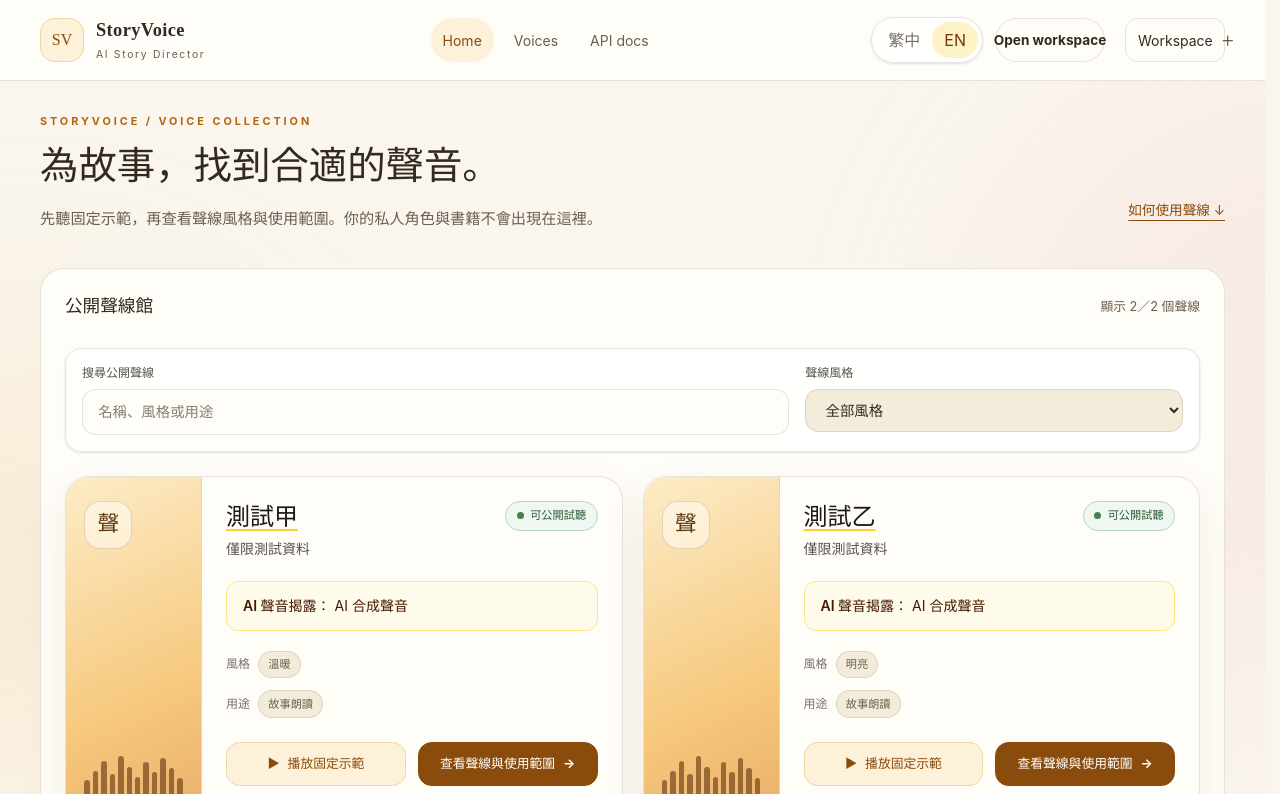
Test: 搜尋及風格篩選能清除，選擇聲線只前往詳情而不授權或合成
Check: the search field is shown, box 82,389 -> 789,435
Select "溫暖" in the dropdown labelled "聲線風格": (994, 410) 805,389 -> 1183,432
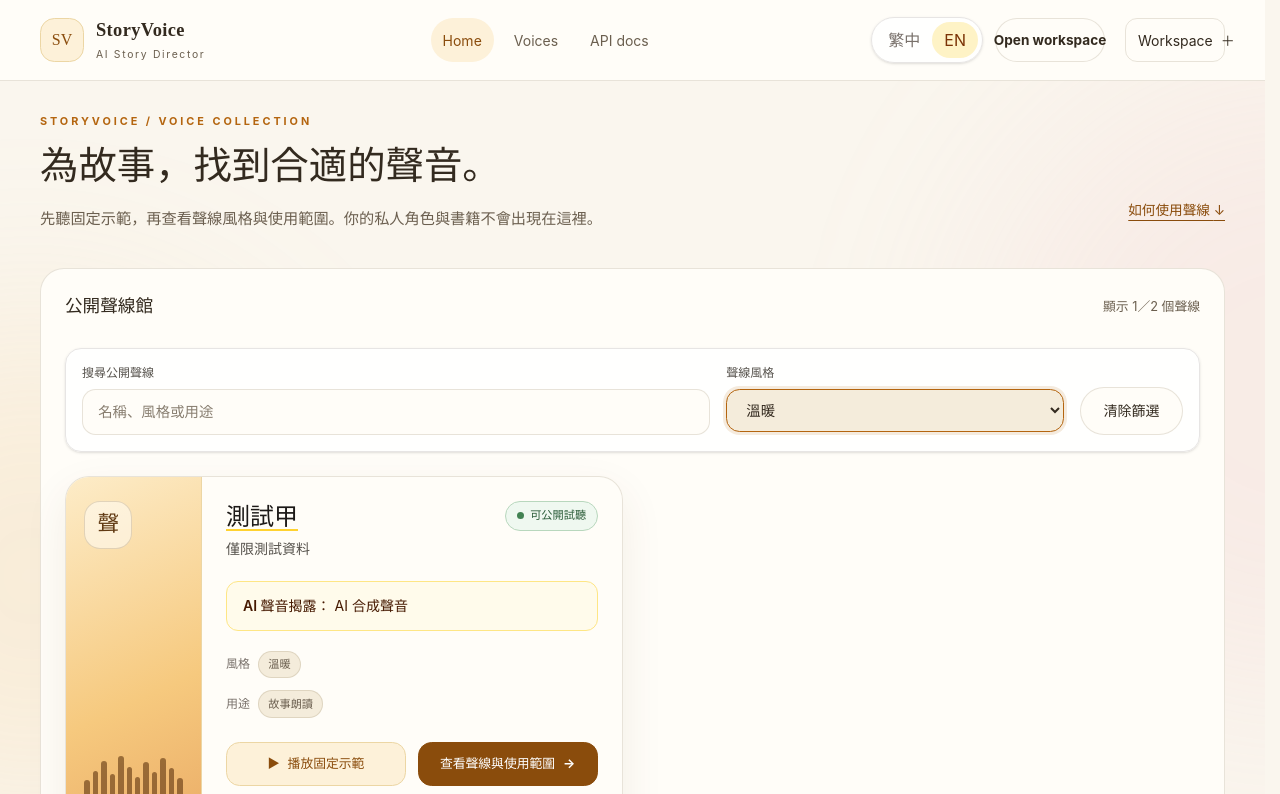
Check: the link "測試甲" is shown, box 226,504 -> 298,530
Check: the link "測試乙" is gone
In the search field: (396, 412) 82,389 -> 710,435, type "找不到"
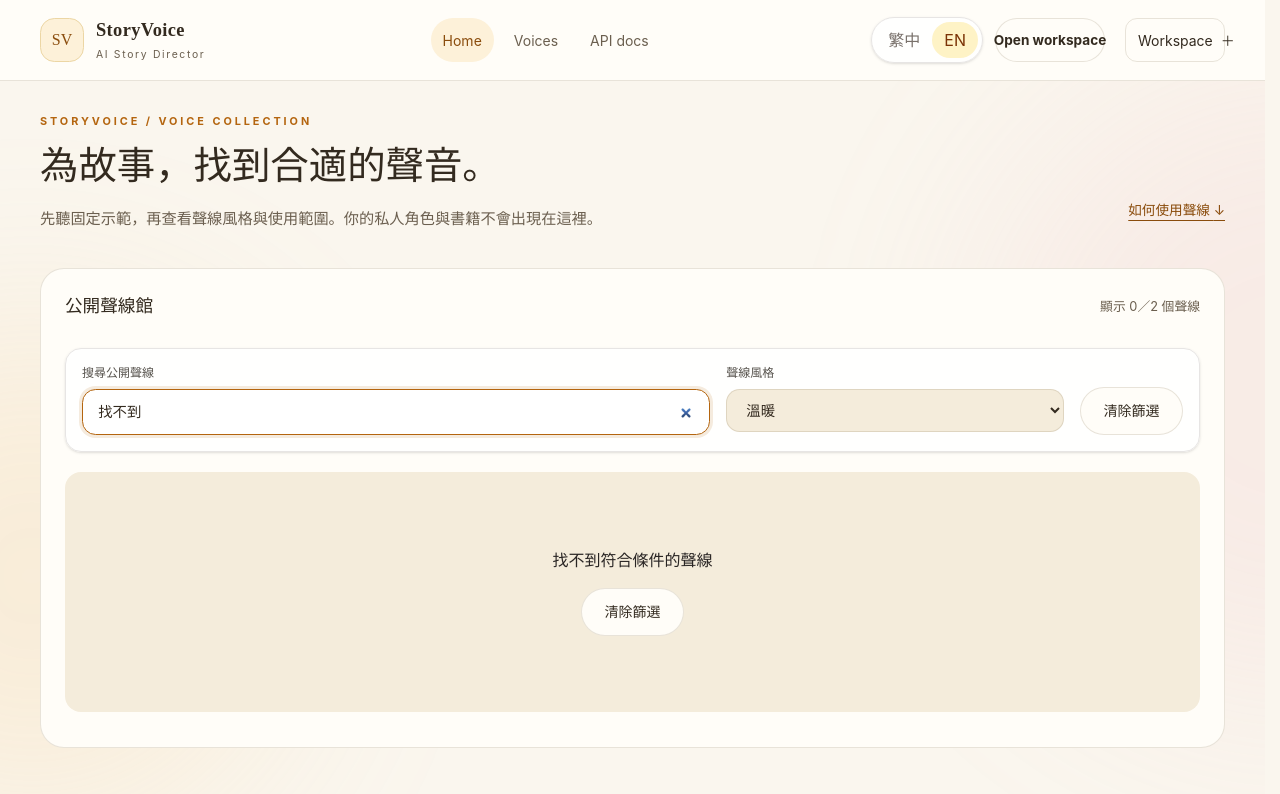
Check: the text "找不到符合條件的聲線" is shown, box 552,548 -> 712,572
Click the 1st button "清除篩選": (1132, 410) 1080,386 -> 1183,434
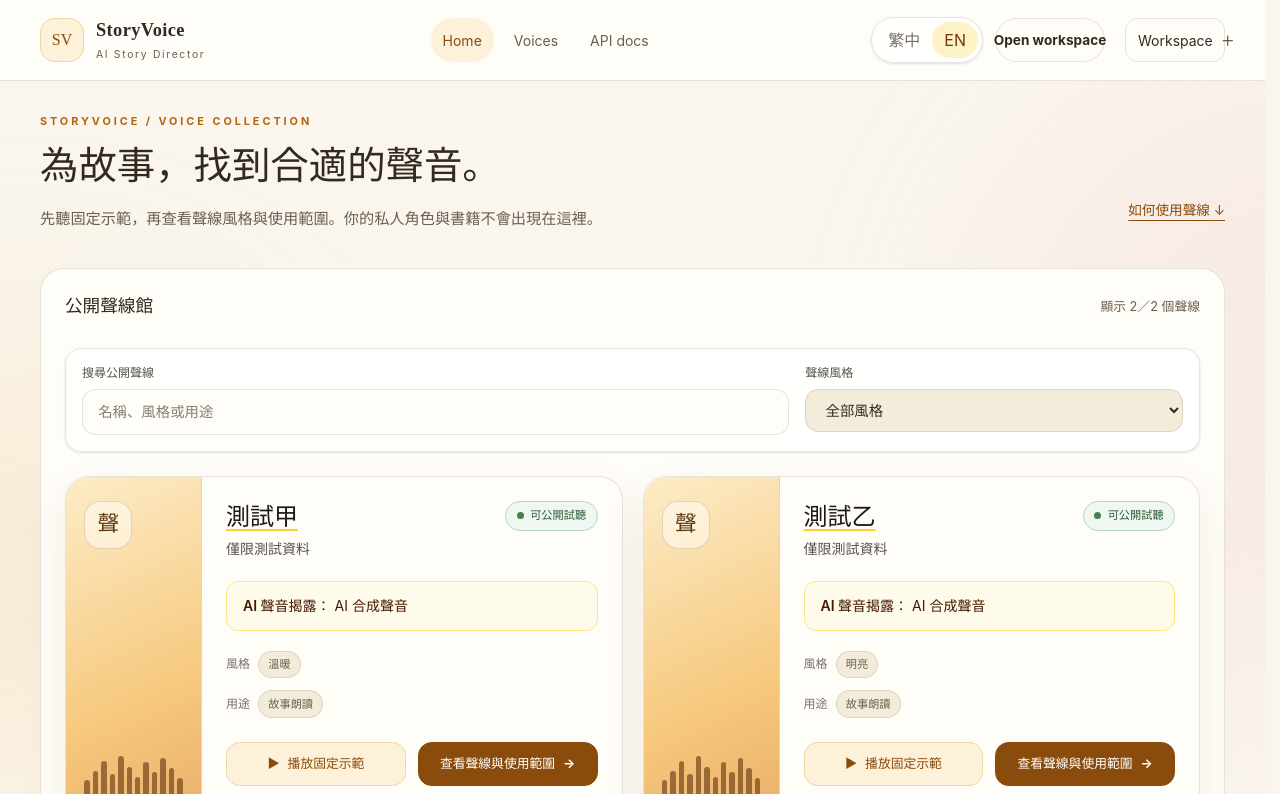
Check: the link "測試乙" is shown, box 804,504 -> 876,530
